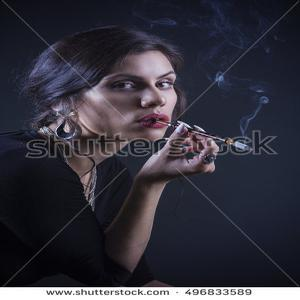cigarette: (221, 136, 255, 153)
